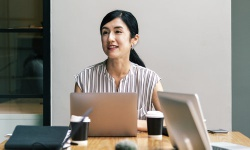female: (97, 10, 144, 66)
